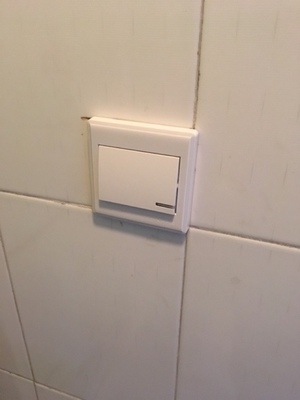switch: (91, 133, 184, 220)
